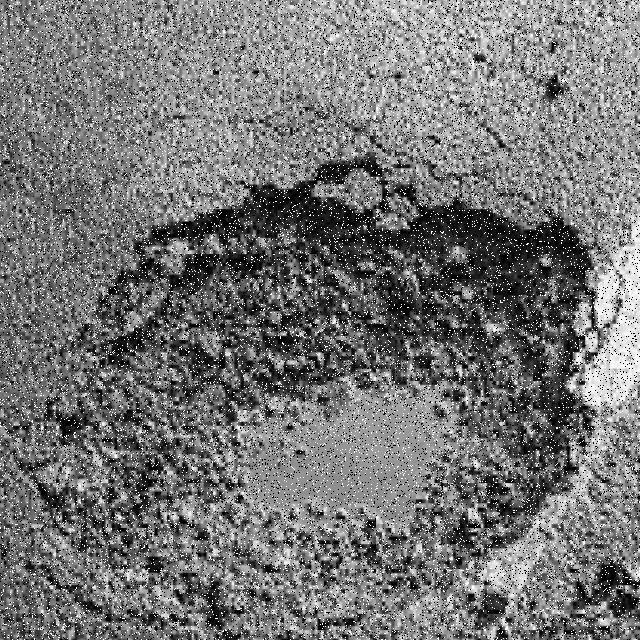pothole: (78, 156, 594, 593)
